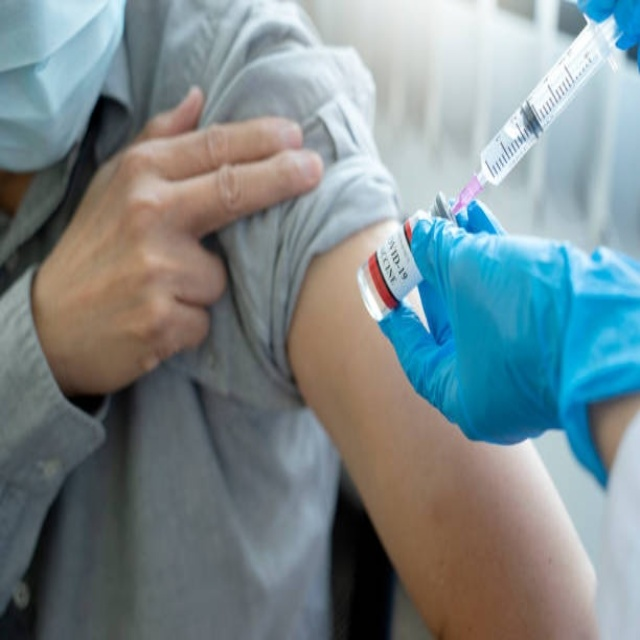Guantes: (378, 201, 640, 488), (575, 0, 640, 61)
Mascara: (1, 1, 132, 173)
Sin_guantes: (39, 81, 314, 403)
